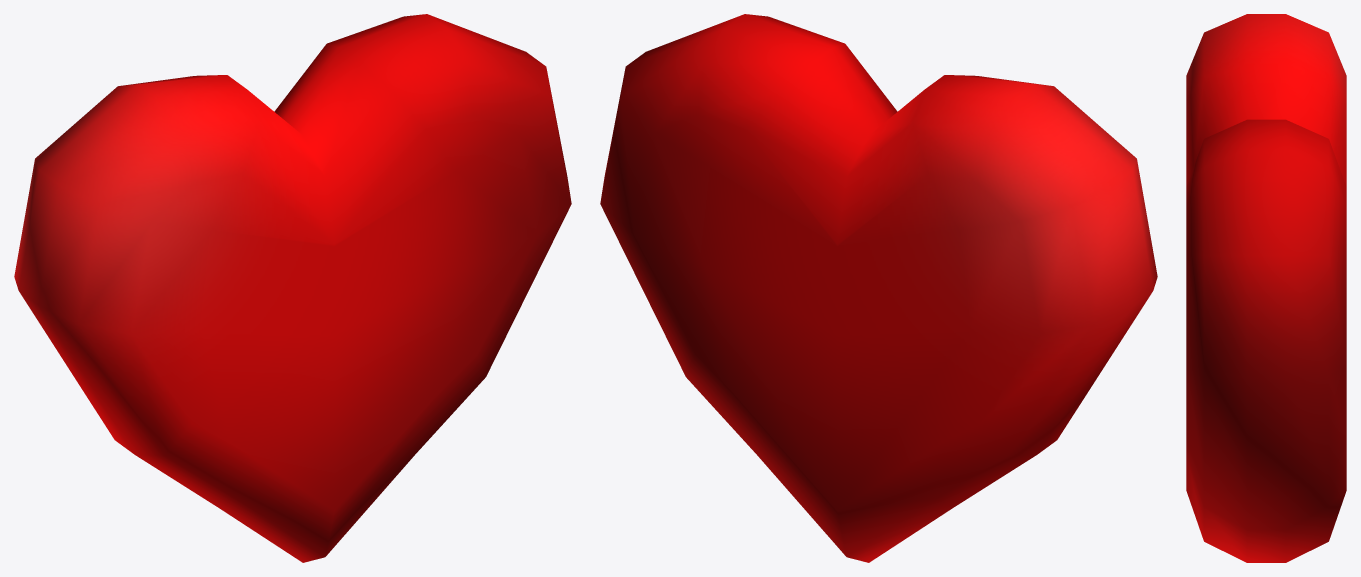
Rendered from heart.fbx.
The picture shows the model from 3 angles, left to right: view 1: azimuth 30°, elevation 25°; view 2: azimuth 150°, elevation 25°; view 3: azimuth 270°, elevation 25°; orthographic projection. The views are drawn at different scales.
Visible parts, largest first — view 1: Cube; view 2: Cube; view 3: Cube.
Part boxes in pixels (<box>): Cube: <box>14,14,571,562</box>; Cube: <box>600,14,1157,562</box>; Cube: <box>1186,14,1346,562</box>.
Bounding box in the file's own units: 109 × 98.59 × 29.81.
